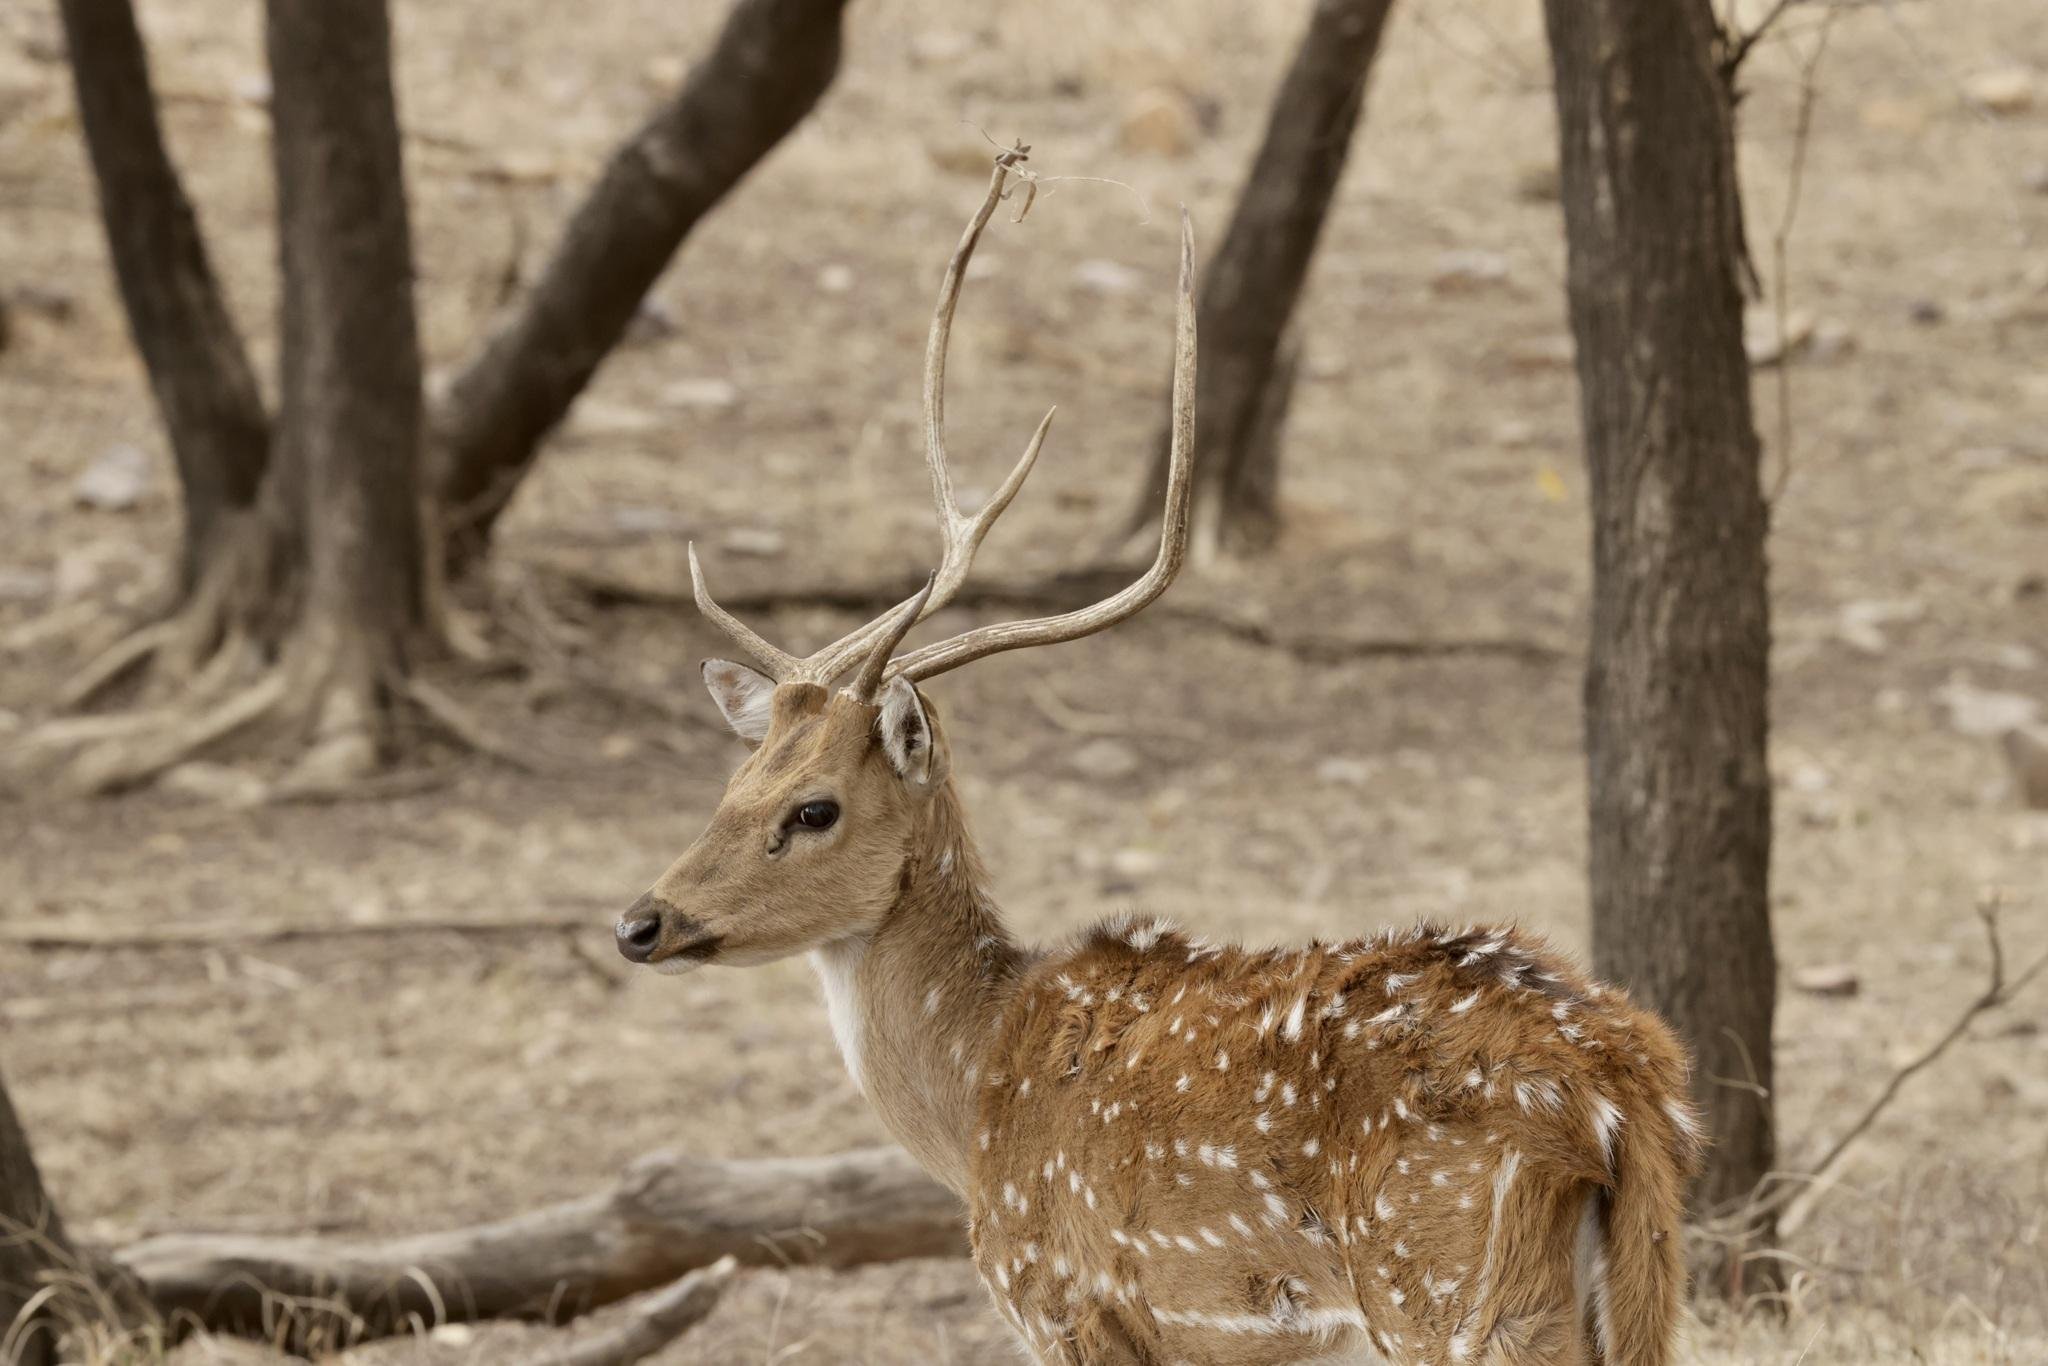Deer: (616, 148, 1701, 1361)
